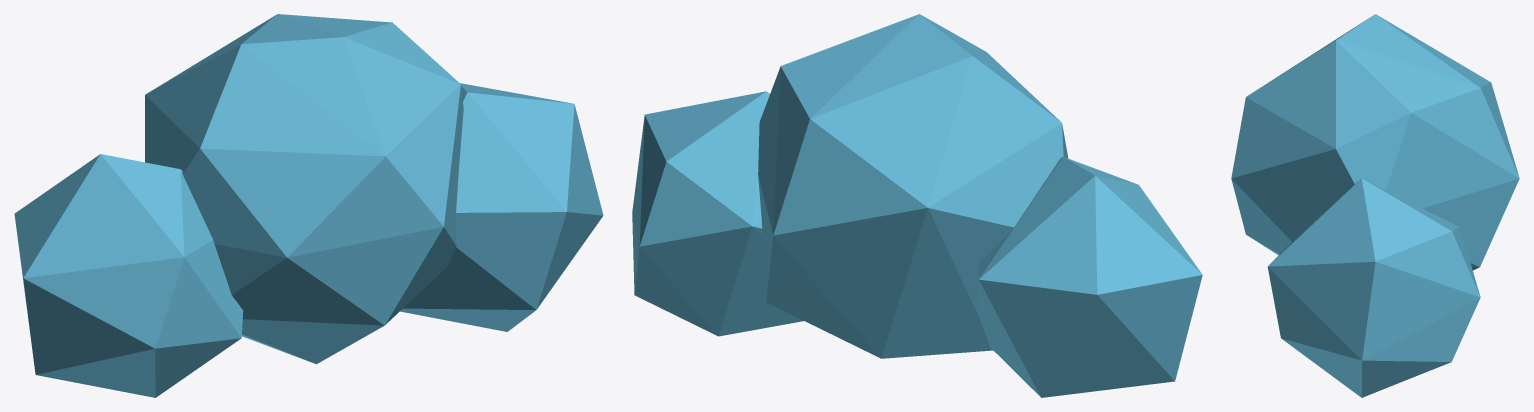
Rendered from Cloud_v02.fbx.
The picture shows the model from 3 angles, left to right: view 1: azimuth 30°, elevation 25°; view 2: azimuth 150°, elevation 25°; view 3: azimuth 270°, elevation 25°; orthographic projection. The views are drawn at different scales.
Parts seen in each view (by area): view 1: Cloud_v02; view 2: Cloud_v02; view 3: Cloud_v02.
Boxes of the visible parts, <box> form: Cloud_v02: <box>14,14,603,397</box>; Cloud_v02: <box>632,14,1202,397</box>; Cloud_v02: <box>1231,14,1519,397</box>.
Bounding box in the file's own units: 34.09 × 19.68 × 17.98.
1 material, 1 textured.
